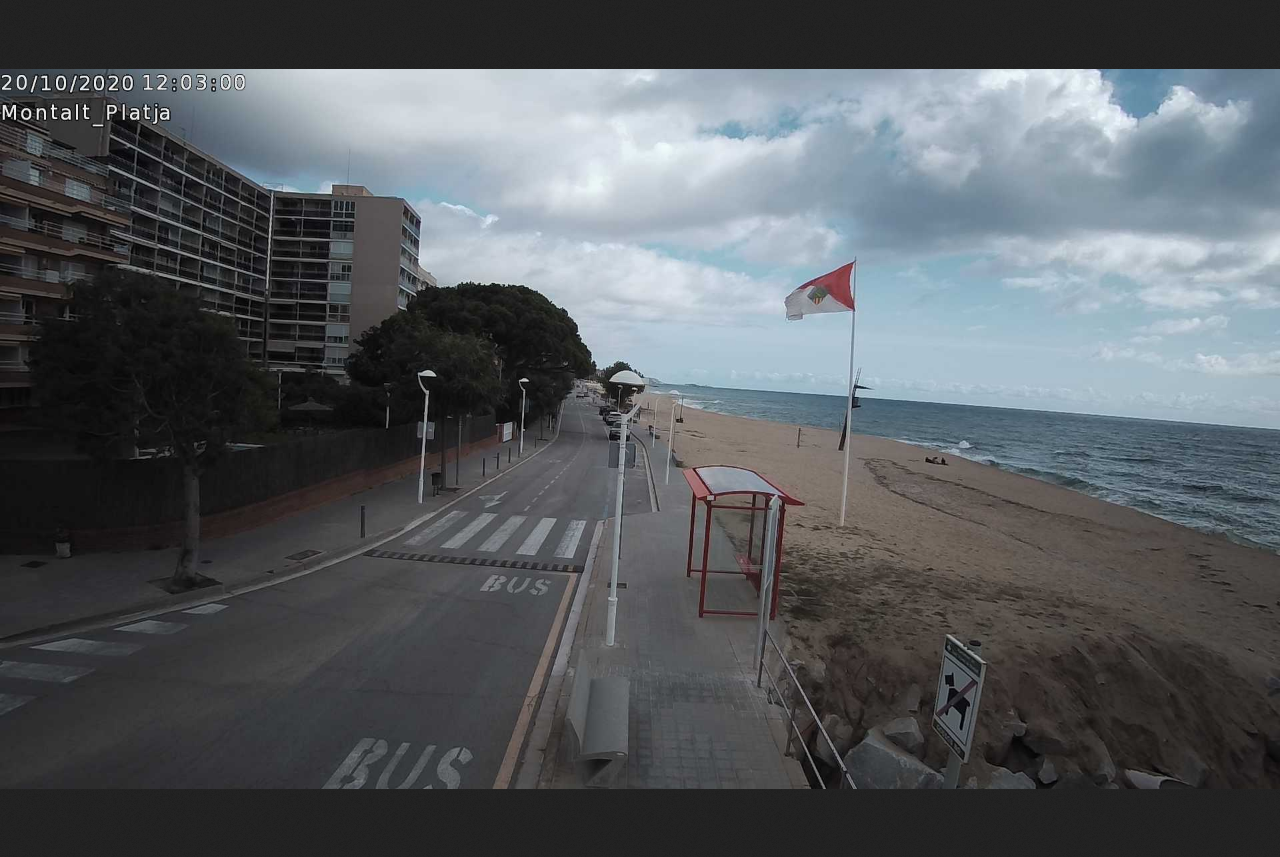yes: (783, 261, 856, 320)
